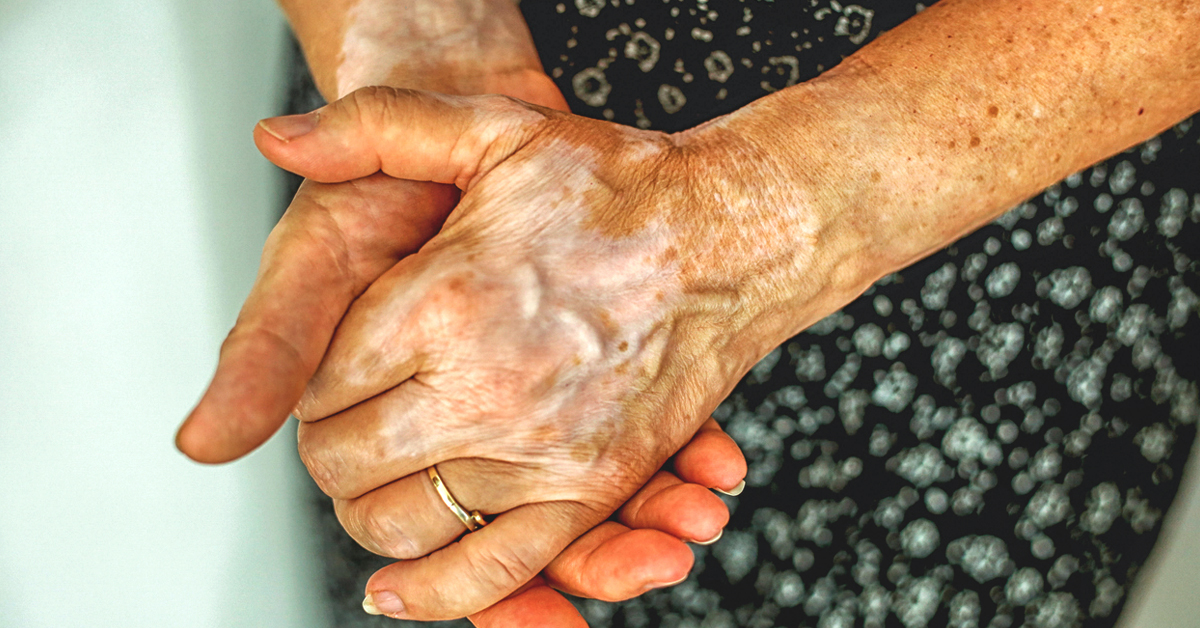Diseased: (316, 33, 819, 504)
